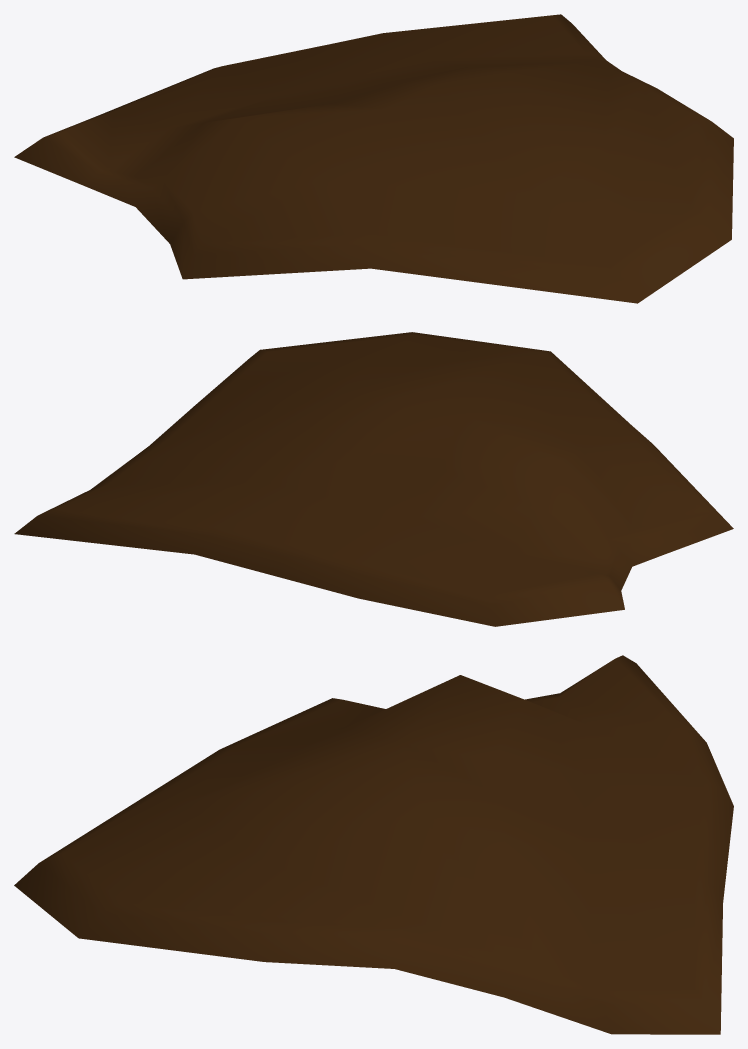
The model's file is S_Soil.glb.
The picture shows the model from 3 angles, top to bottom: view 1: azimuth 30°, elevation 25°; view 2: azimuth 150°, elevation 25°; view 3: azimuth 270°, elevation 25°; orthographic projection. The views are drawn at different scales.
Parts seen in each view (by area): view 1: S_Soil; view 2: S_Soil; view 3: S_Soil.
Part boxes in pixels (box(x1,y1,x2,y2)): S_Soil: box(14, 14, 733, 303); S_Soil: box(14, 332, 733, 626); S_Soil: box(14, 655, 733, 1034).
Size of the model in its own units: 2.27 by 0.3992 by 2.11.
